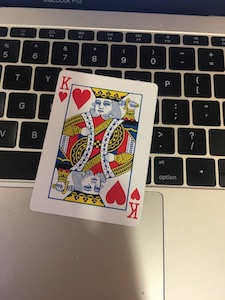KingOfHearts: (27, 67, 163, 230)
